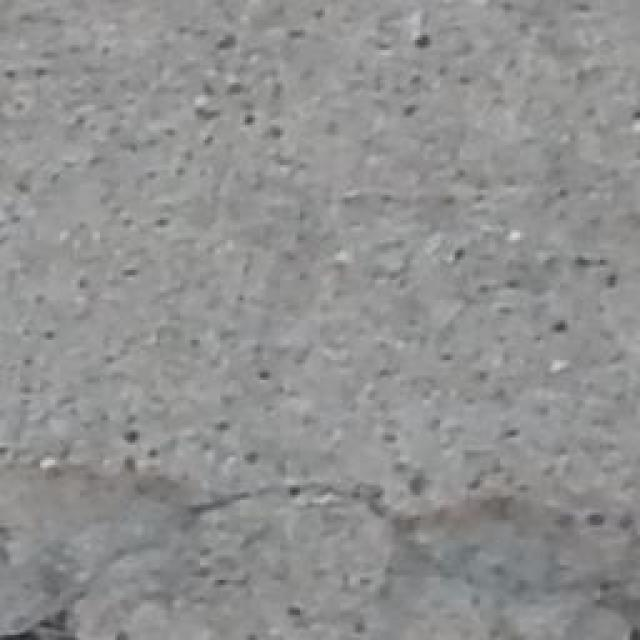concrete-crack: (4, 478, 414, 640)
